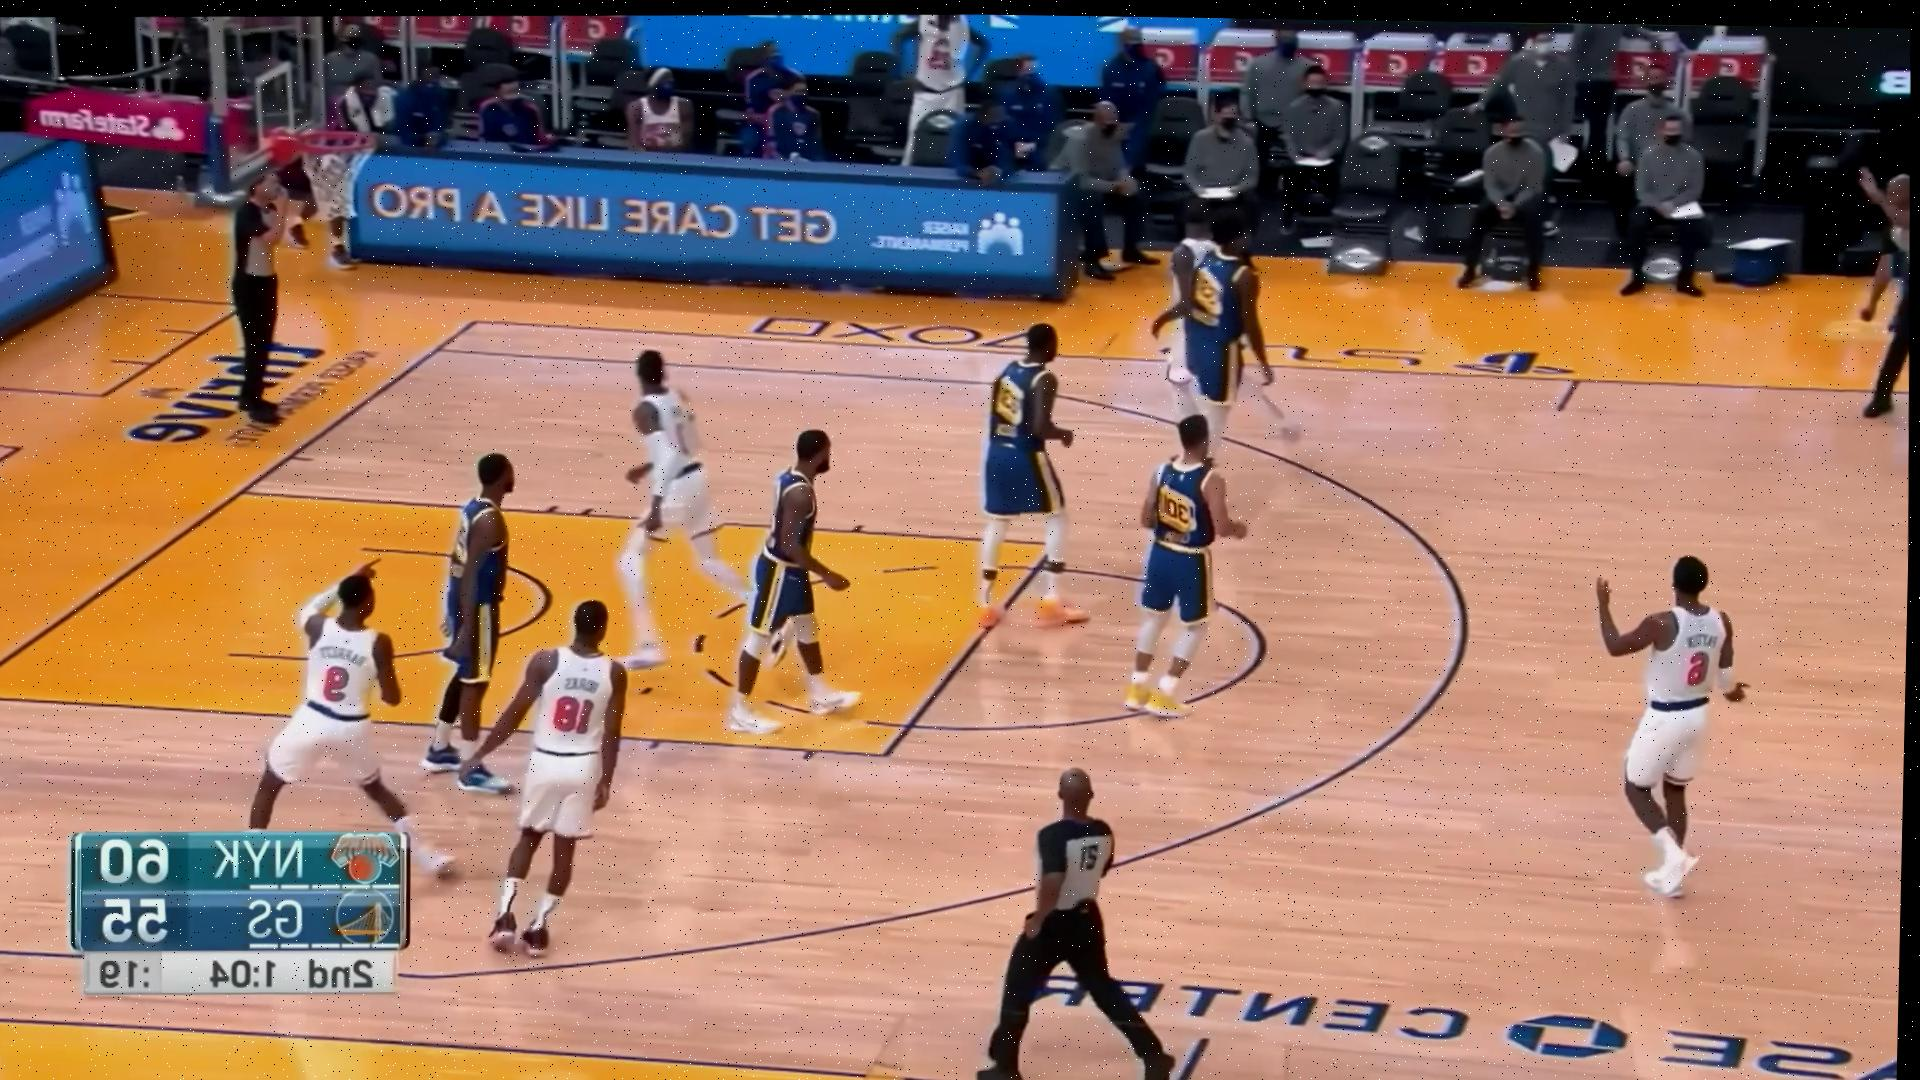no_foul: (592, 324, 899, 724)
